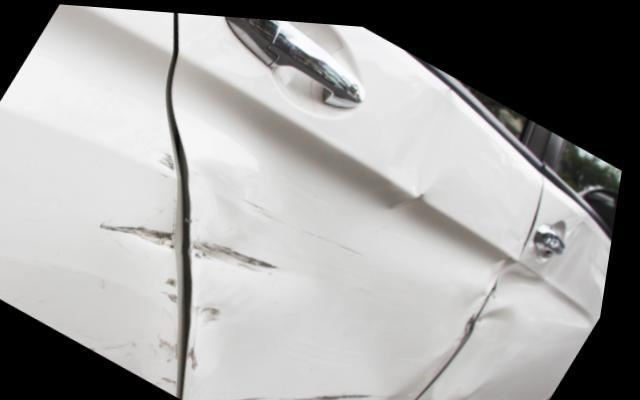dent: (193, 79, 518, 400), (442, 208, 610, 400)
scratch: (160, 272, 190, 392), (101, 216, 182, 246), (158, 147, 182, 182)
